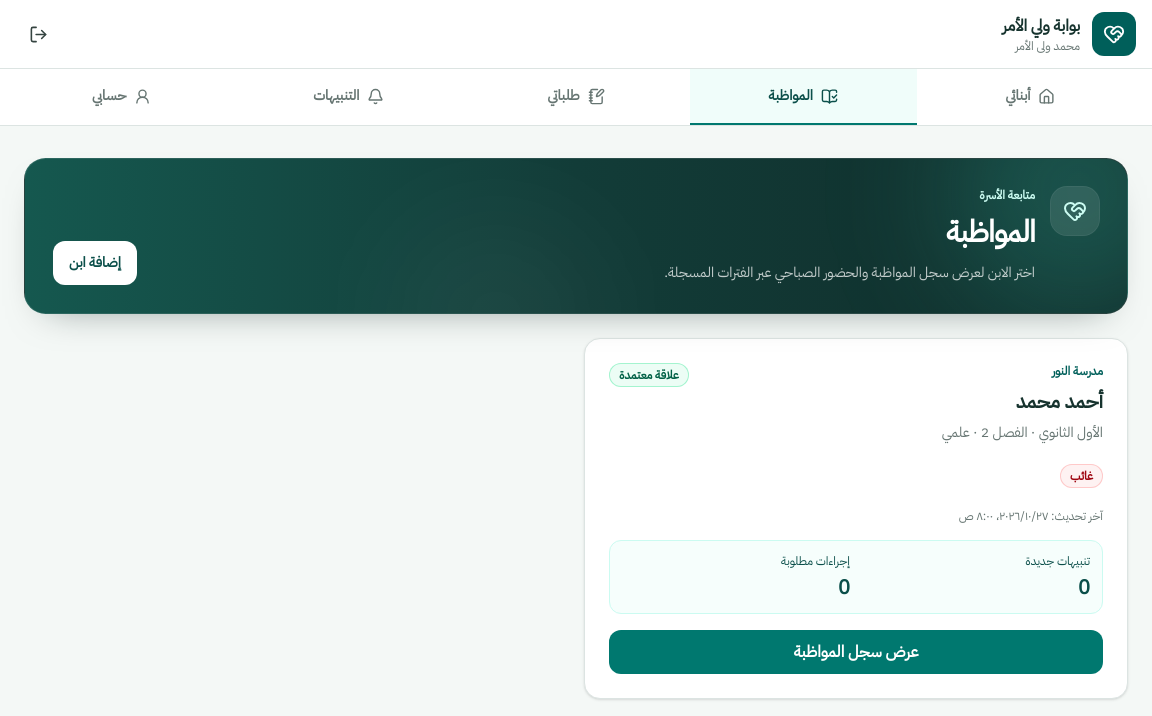
Test: parent portal isolation and family workflows › offers all five parent sections and opens attendance through the child's history
The width and height of the screenshot is (1152, 716).
Click the link "عرض سجل المواظبة" at (856, 652), box [609,630,1103,674]
(page scrolled)
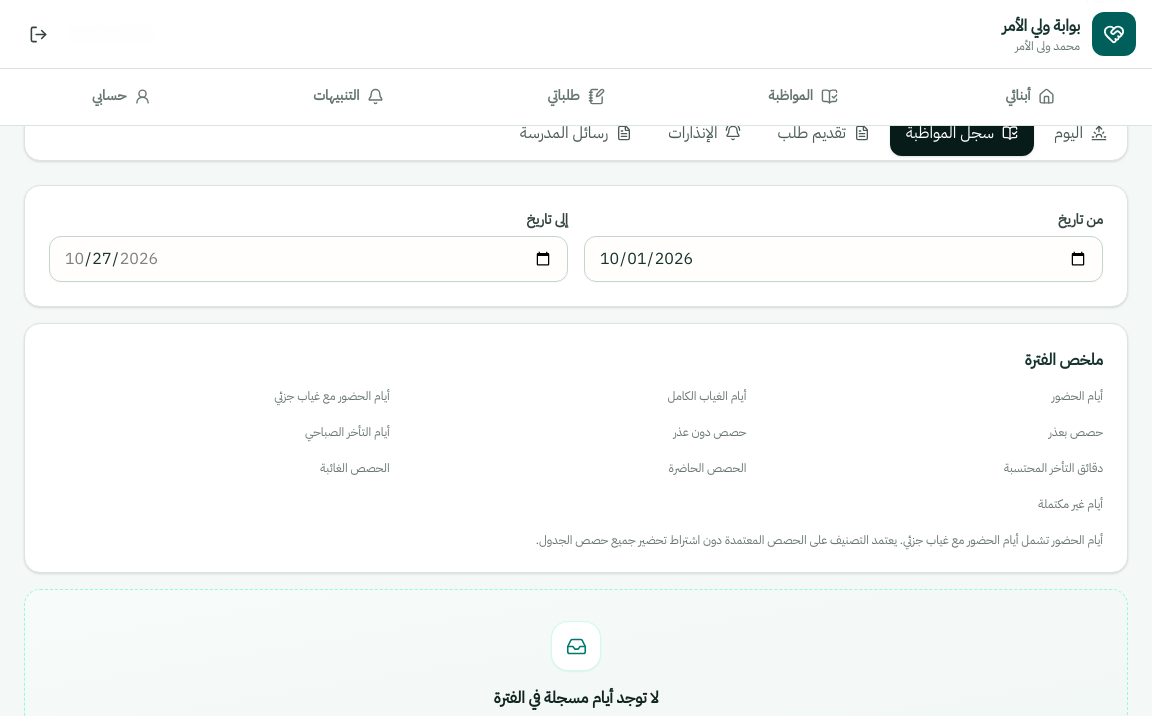
Expected: the heading "ملخص الفترة" is shown, [1024,348,1103,372]
